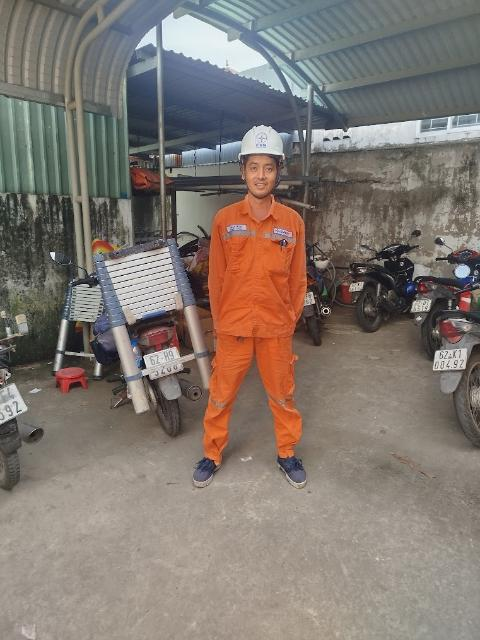helmet: (226, 127, 298, 163)
shoes: (184, 445, 230, 496), (266, 442, 314, 490)
